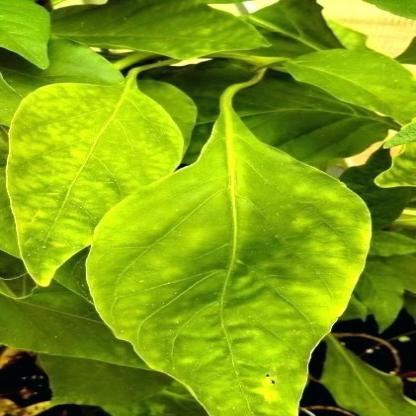Bell_pepper leaf: (77, 134, 379, 415), (5, 81, 189, 292)
